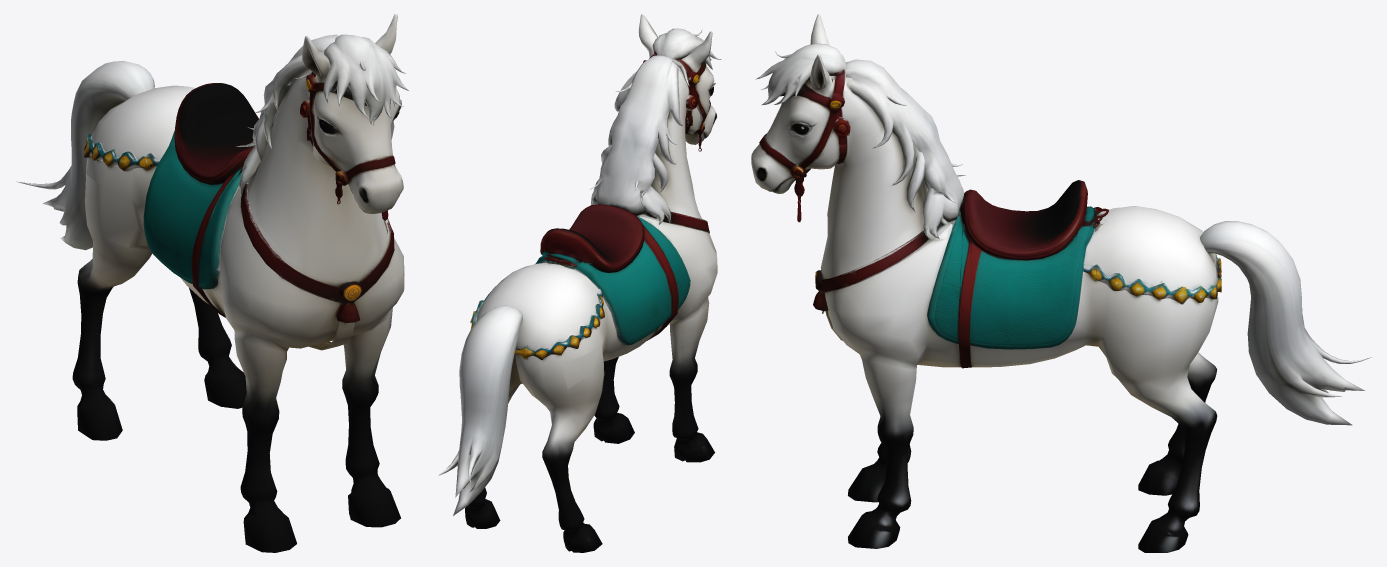
File: white-dragon-studio-p2-source.fbx
3 views of the same model, side by side, from view 1: azimuth 30°, elevation 25°; view 2: azimuth 150°, elevation 25°; view 3: azimuth 270°, elevation 25° (orthographic). The views are drawn at different scales.
Visible parts, largest first — view 1: f40dc541_1703_422e_add3_b59d01d39101; view 2: f40dc541_1703_422e_add3_b59d01d39101; view 3: f40dc541_1703_422e_add3_b59d01d39101.
Part boxes in pixels (left/top/right/bottom): f40dc541_1703_422e_add3_b59d01d39101: left=16, top=14, right=408, bottom=552; f40dc541_1703_422e_add3_b59d01d39101: left=439, top=14, right=721, bottom=552; f40dc541_1703_422e_add3_b59d01d39101: left=751, top=14, right=1370, bottom=552.
Size of the model in its own units: 0.2847 by 0.8569 by 0.9995.
Materials: 1 (1 with a texture image).
